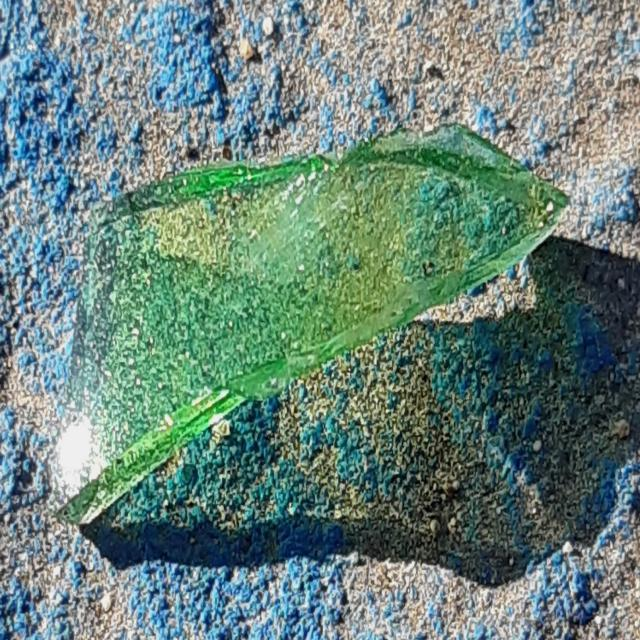Dry: (57, 125, 572, 512)
